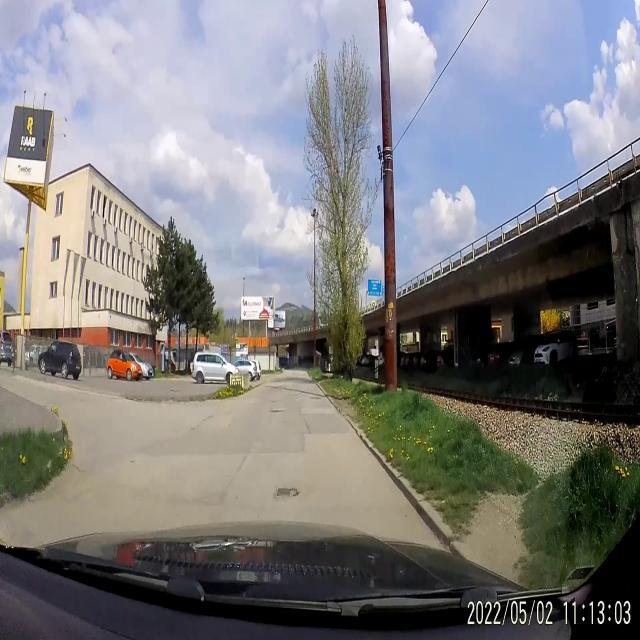Manhole: (308, 394, 322, 402)
Pothole: (272, 483, 300, 504), (268, 406, 288, 416), (270, 398, 280, 404)
